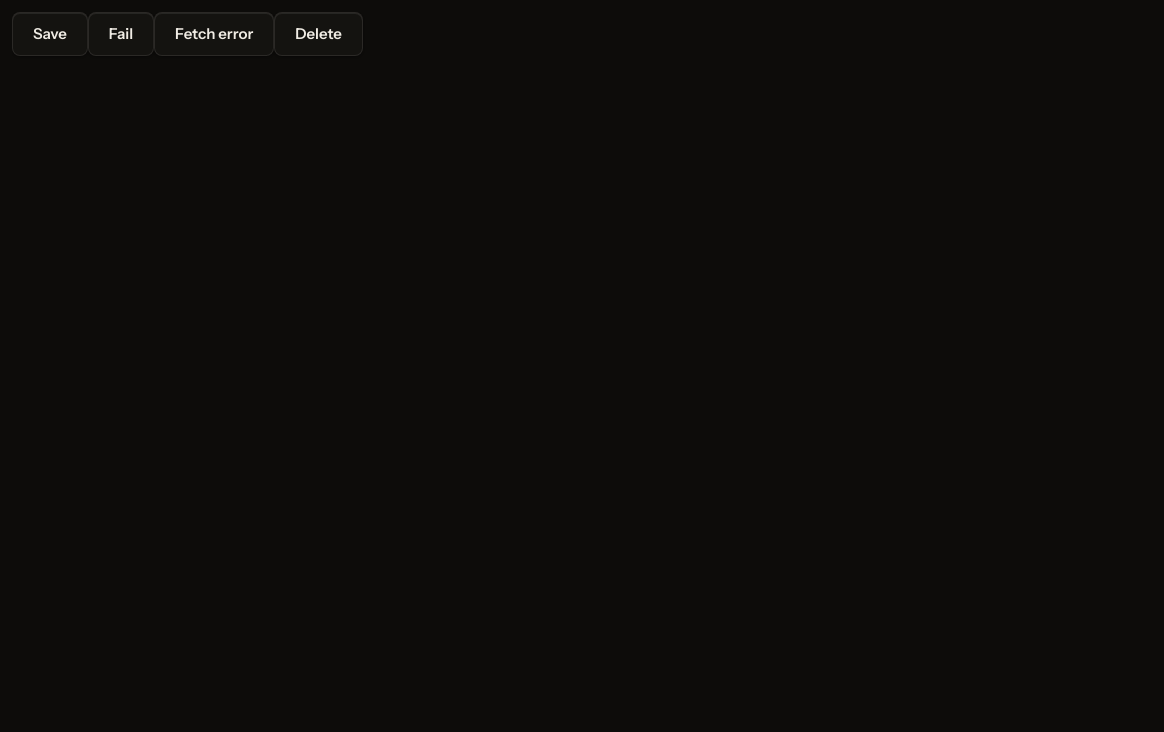
Scenario: toasts › gives failures role=alert so they interrupt
Click the button "Fail" at (121, 34), box [88, 12, 154, 56]
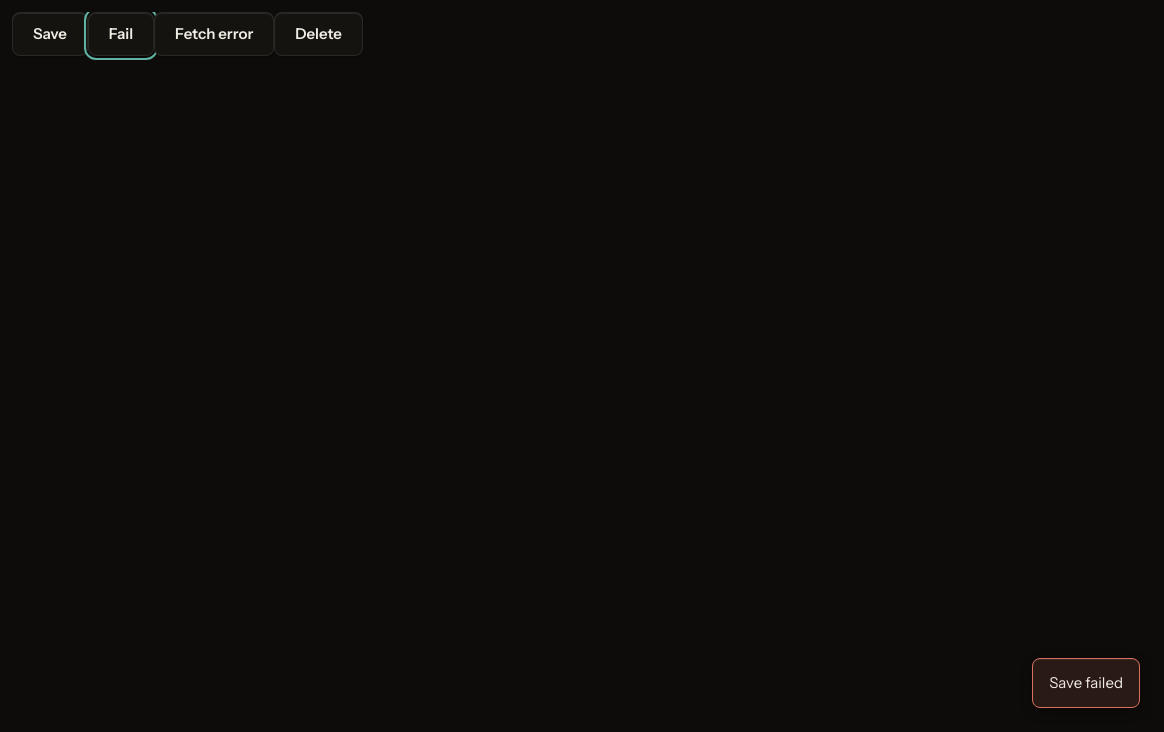
Expected: the message reads "Save failed", [1049, 673, 1123, 692]
